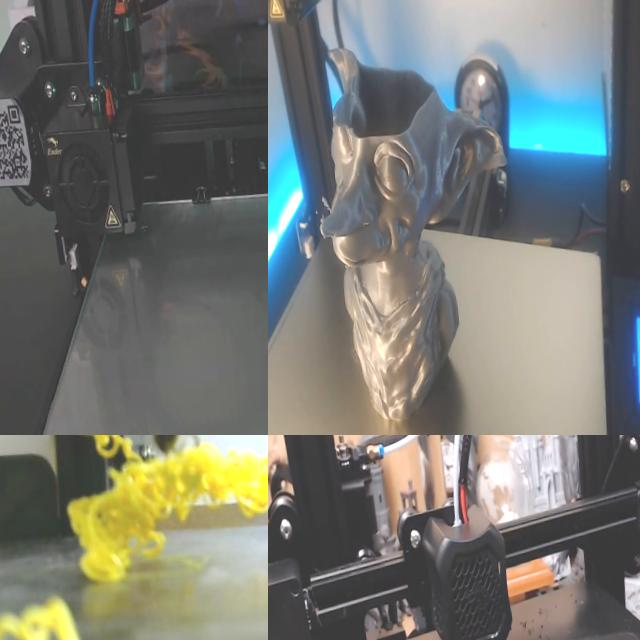spaghetti: (68, 435, 268, 582), (0, 596, 80, 640)
